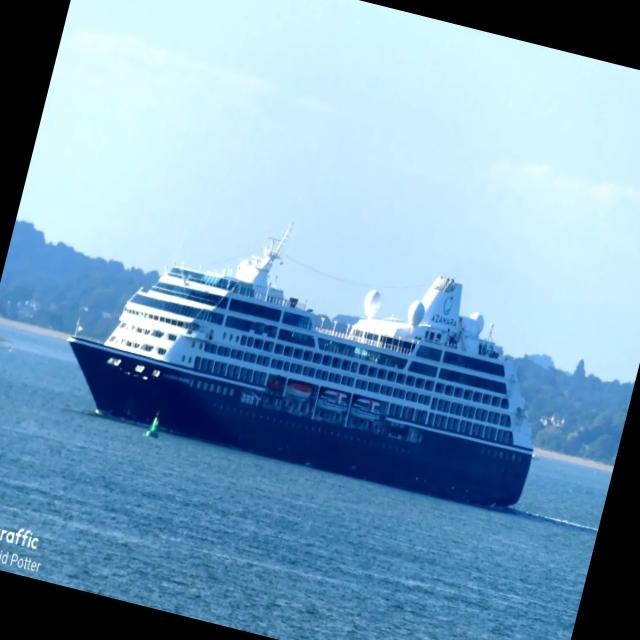Cruise: (68, 236, 533, 506)
